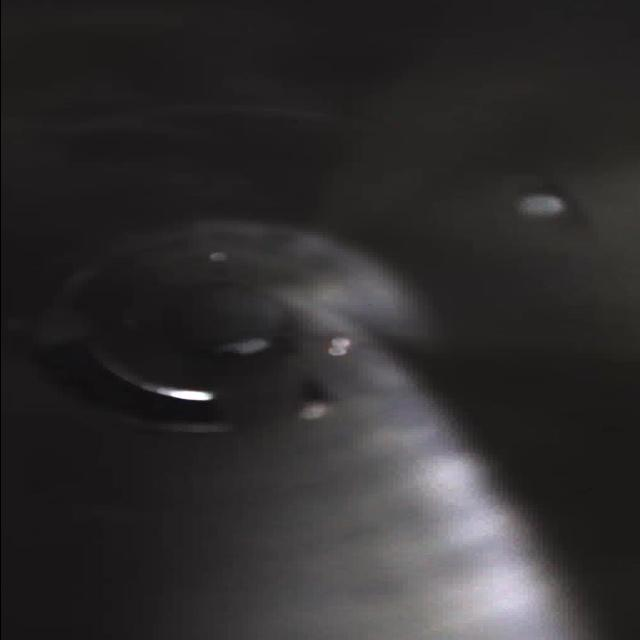hole: (33, 333, 236, 438)
